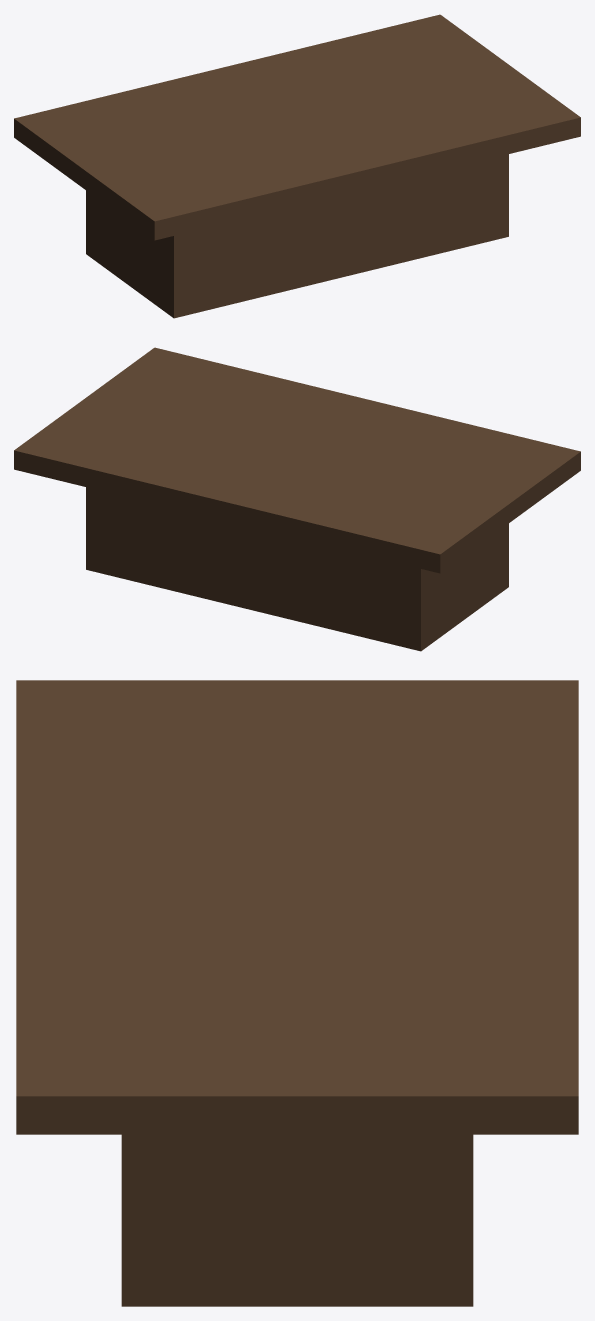
The model's file is coffee_table.glb.
3 views of the same model, one above another, from view 1: azimuth 30°, elevation 25°; view 2: azimuth 150°, elevation 25°; view 3: azimuth 270°, elevation 25° (orthographic). The views are drawn at different scales.
Visible parts, largest first — view 1: coffee_table_Top, coffee_table_Base; view 2: coffee_table_Top, coffee_table_Base; view 3: coffee_table_Top, coffee_table_Base.
Boxes of the visible parts, x1,y1,x2,y2 form: coffee_table_Top: (14,14,580,240); coffee_table_Base: (86,154,508,318); coffee_table_Top: (14,347,580,573); coffee_table_Base: (86,487,508,651); coffee_table_Top: (16,680,578,1134); coffee_table_Base: (121,1134,473,1306).
Size of the model in its own units: 1.4 by 0.4 by 0.8.
